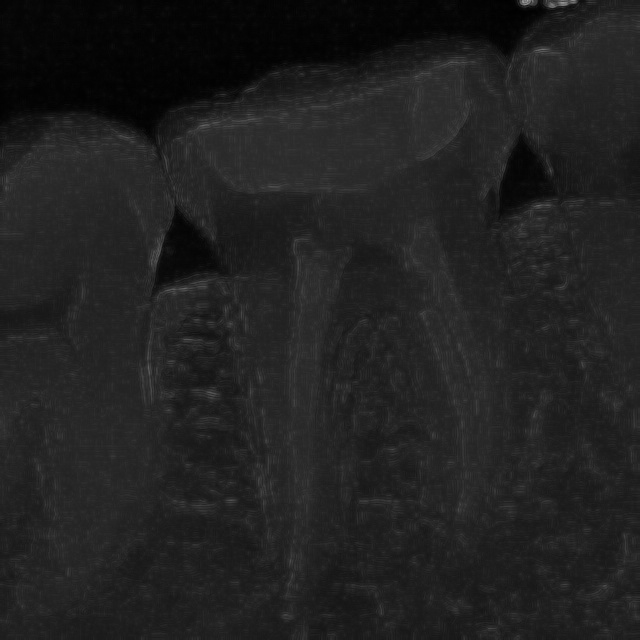Class 0- No endodontic treatment: (128, 55, 600, 620)
